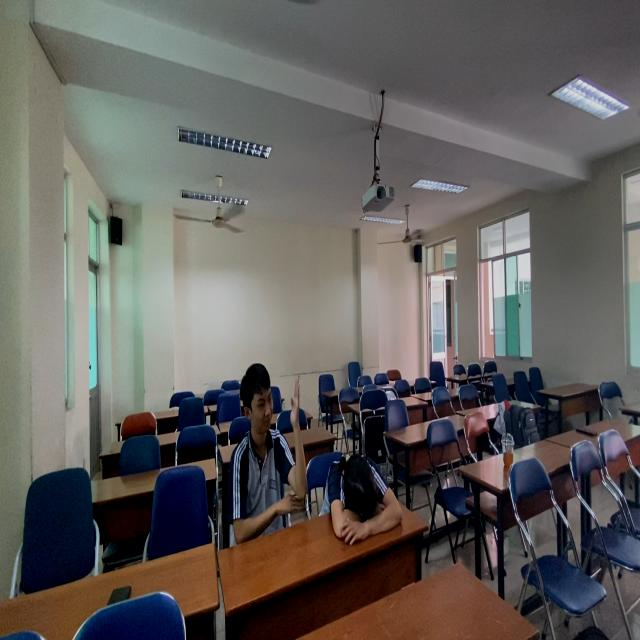raise_hand: (228, 365, 310, 546)
sleep: (319, 441, 409, 549)
